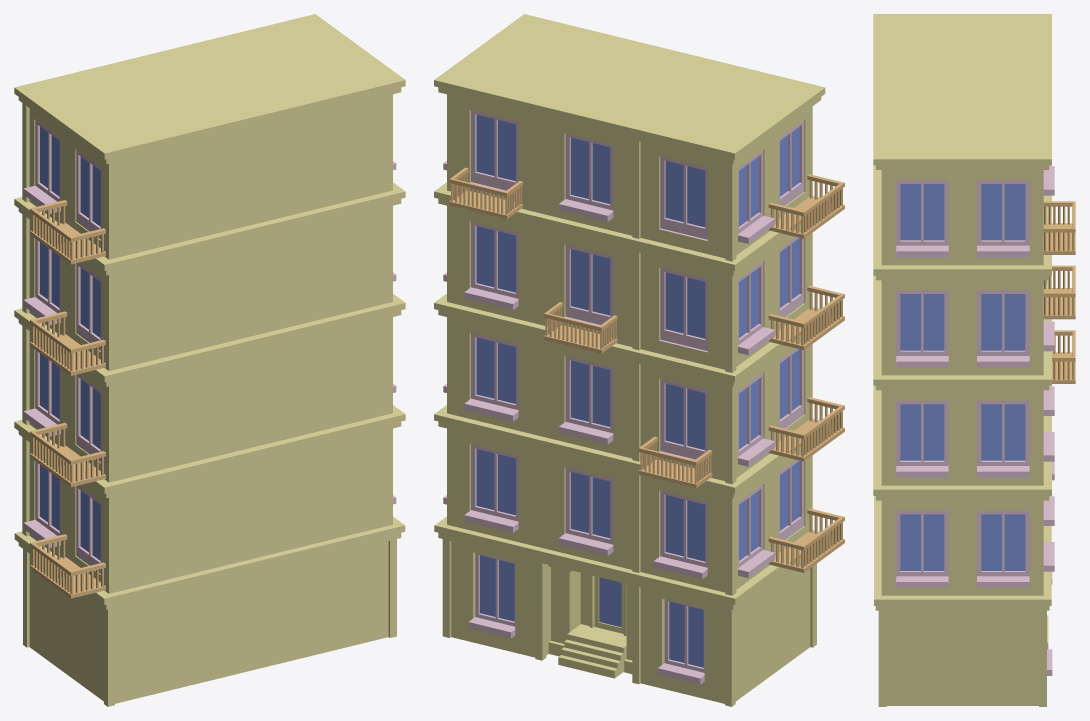
File: NewHouses.fbx
3 views of the same model, side by side, from view 1: azimuth 30°, elevation 25°; view 2: azimuth 150°, elevation 25°; view 3: azimuth 270°, elevation 25° (orthographic).
Visible parts, largest first — view 1: BalconyR.002; view 2: BalconyR.002; view 3: BalconyR.002.
Part boxes in pixels (x1,y1,x2,y2): BalconyR.002: [14, 14, 405, 706]; BalconyR.002: [434, 14, 844, 706]; BalconyR.002: [873, 14, 1075, 706].
Size of the model in its own units: 2789 by 4500 by 1496.
